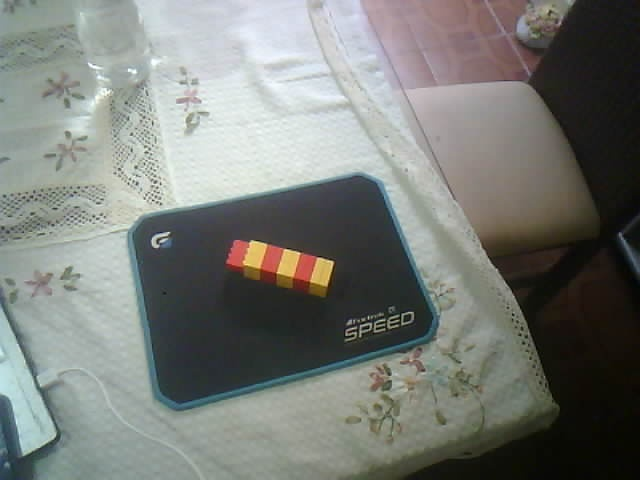lego: (223, 238, 335, 299)
